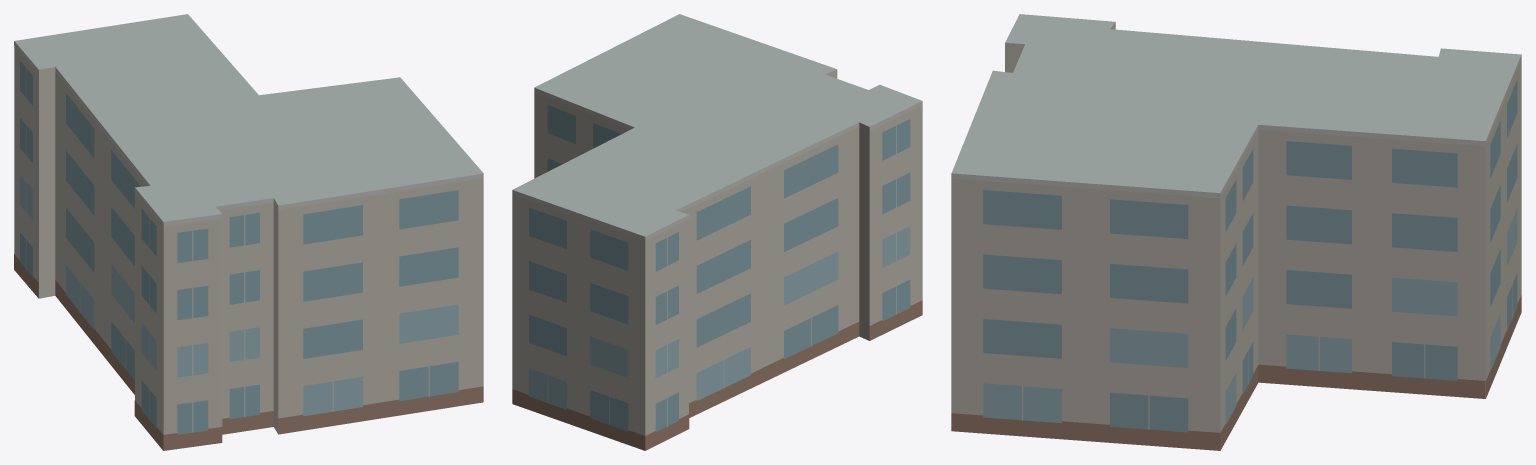
The model's file is survey-upis-32804846.glb.
The picture shows the model from 3 angles, left to right: view 1: azimuth 30°, elevation 25°; view 2: azimuth 150°, elevation 25°; view 3: azimuth 270°, elevation 25°; orthographic projection. The views are drawn at different scales.
Parts seen in each view (by area): view 1: survey-upis-32804846.tmp; view 2: survey-upis-32804846.tmp; view 3: survey-upis-32804846.tmp.
Part boxes in pixels (box(x1,y1,x2,y2)): survey-upis-32804846.tmp: box(14, 14, 483, 450); survey-upis-32804846.tmp: box(512, 14, 922, 450); survey-upis-32804846.tmp: box(951, 14, 1521, 450).
Size of the model in its own units: 18.19 by 12.2 by 24.46.
